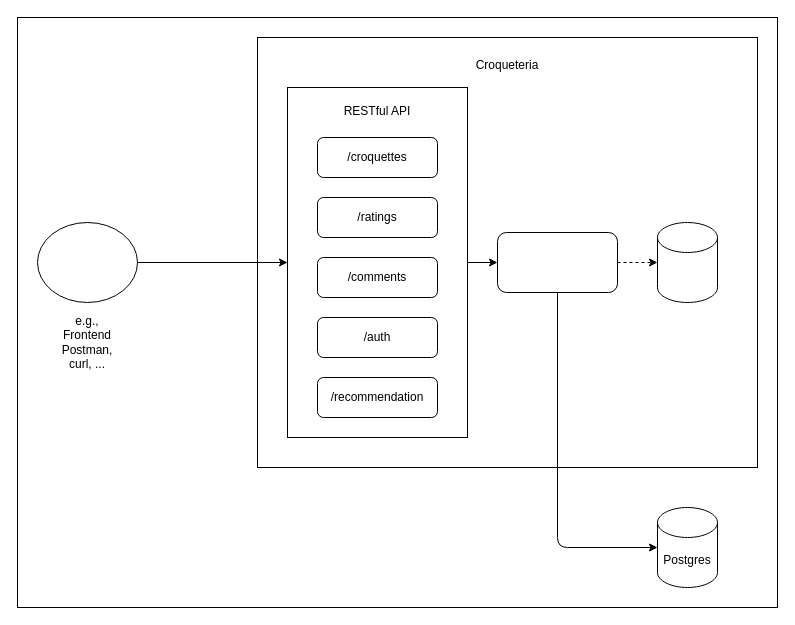
The diagram is 795 pixels wide and 625 high, and some of its shapes have lost their labels. Here are the shapes that lost their labels. From the top down, the centre of each, then its label:
(x=87, y=262): Client
(x=557, y=262): Storage Service
(x=687, y=262): H2 DB
